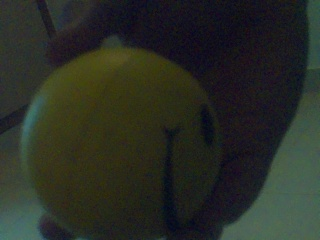ball: (21, 48, 219, 239)
